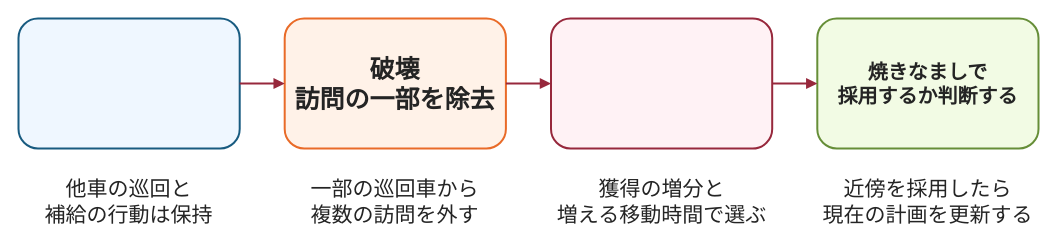
The diagram is 1056 pixels wide and 250 high, and some of its shapes have lost their labels. Each missing label, with the box of its shape:
再構築 訪問を再挿入: (550, 17, 773, 149)
最良の計画: (17, 17, 240, 149)
